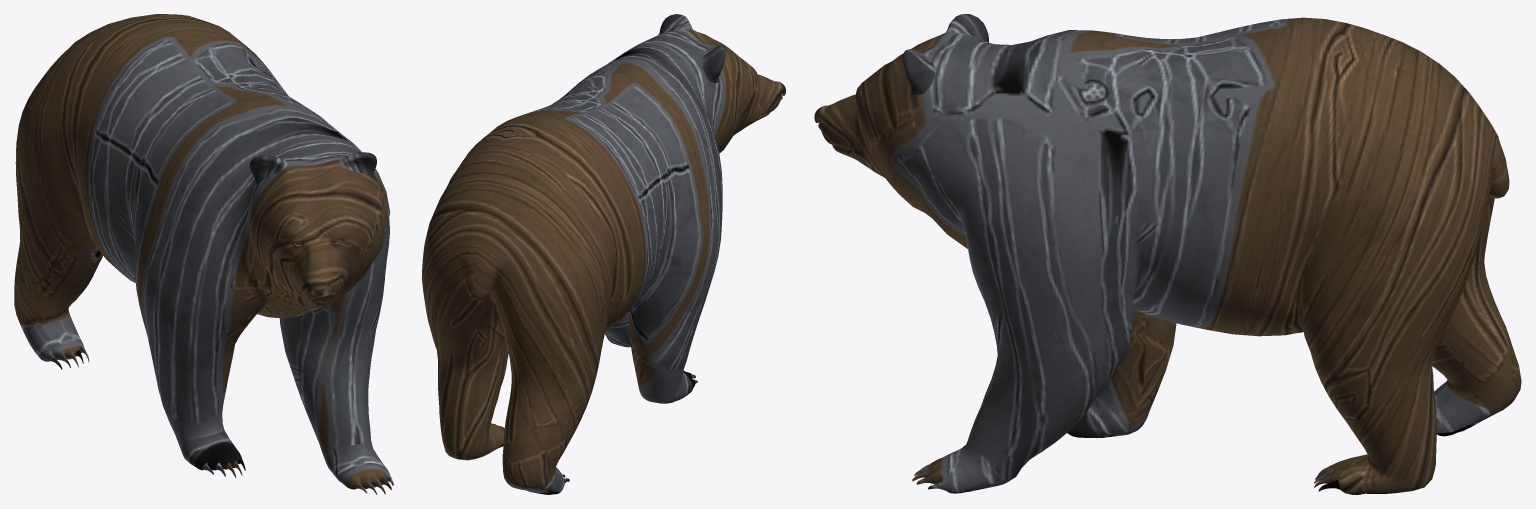
The model's file is bear.obj.
3 views of the same model, side by side, from view 1: azimuth 30°, elevation 25°; view 2: azimuth 150°, elevation 25°; view 3: azimuth 270°, elevation 25° (orthographic). The views are drawn at different scales.
Visible parts, largest first — view 1: obj1; view 2: obj1; view 3: obj1.
Boxes of the visible parts, left/top/right/bottom form: obj1: left=14, top=14, right=393, bottom=494; obj1: left=422, top=14, right=785, bottom=494; obj1: left=814, top=14, right=1521, bottom=494.
Size of the model in its own units: 0.0696 by 0.1181 by 0.1777.
